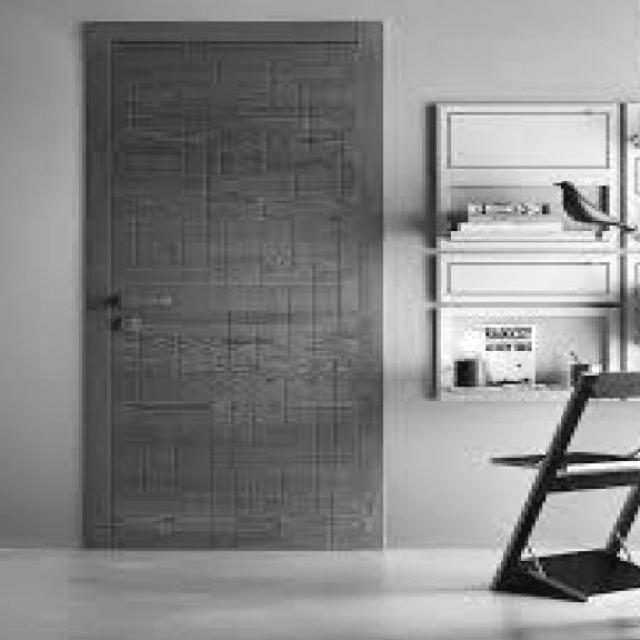door: (81, 19, 385, 552)
